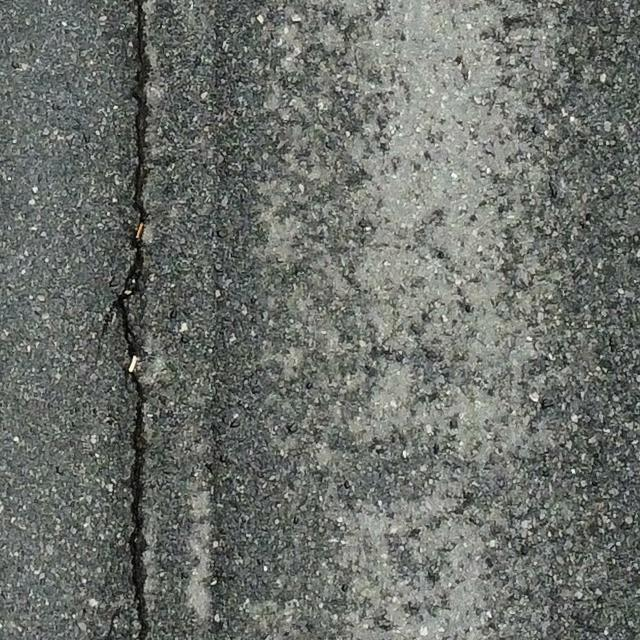LongitudinalCrack: (109, 1, 152, 640)
